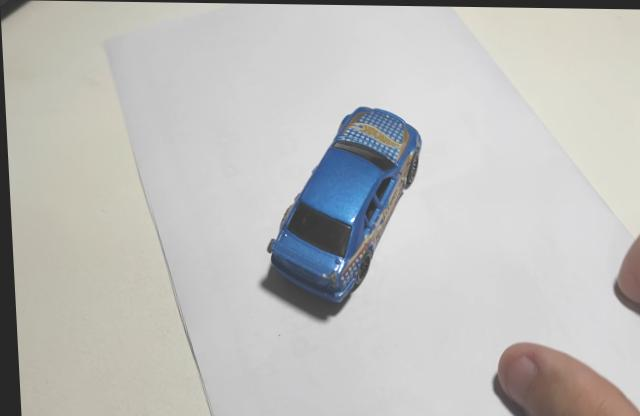04_MERZEDES: (264, 106, 421, 306)
